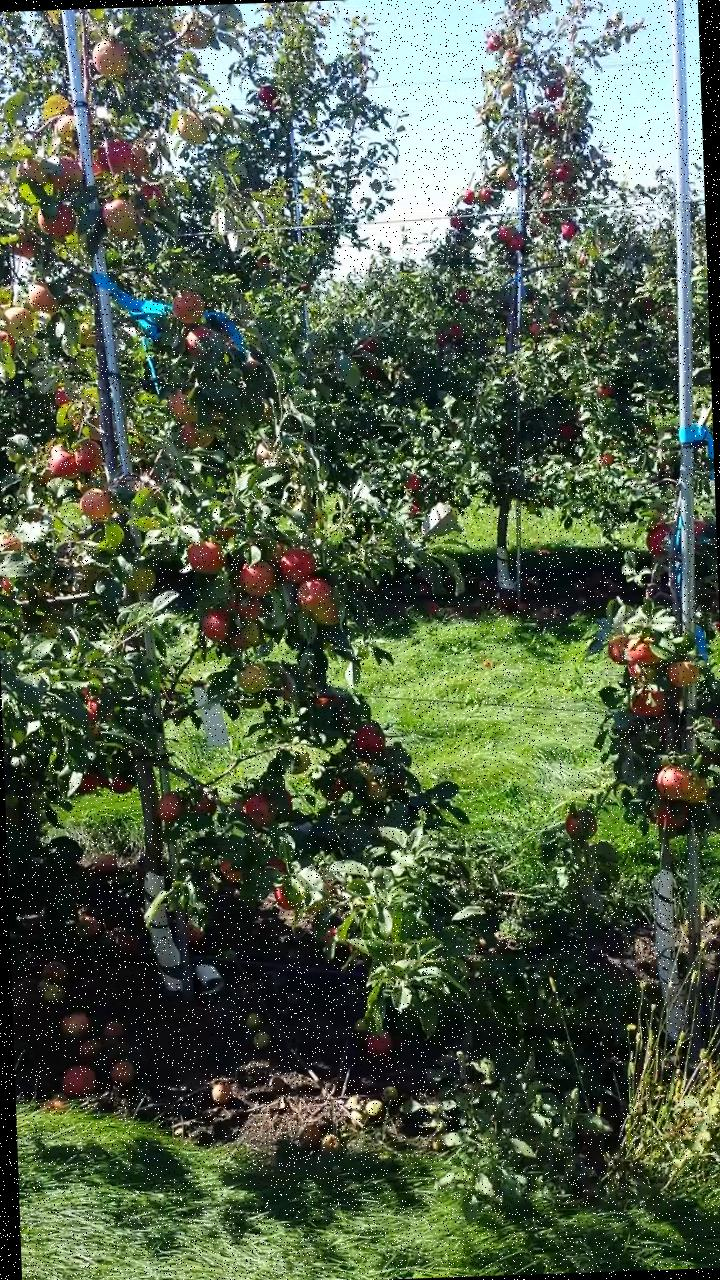Apple: (104, 198, 144, 242), (185, 535, 228, 575), (36, 201, 78, 239), (240, 557, 278, 598), (94, 39, 131, 79), (99, 136, 136, 174), (282, 544, 319, 582), (172, 287, 209, 324), (78, 484, 116, 520), (650, 796, 688, 832), (51, 154, 85, 194), (200, 606, 235, 644), (654, 759, 686, 799), (665, 656, 703, 689), (28, 282, 62, 318), (176, 108, 208, 146), (73, 439, 107, 474), (299, 575, 334, 609), (238, 660, 274, 693), (228, 594, 266, 624), (4, 306, 36, 341), (12, 158, 49, 188), (170, 390, 202, 424), (244, 795, 276, 829), (49, 442, 79, 478), (185, 324, 214, 360), (78, 686, 103, 726), (180, 423, 217, 450), (356, 724, 387, 755), (232, 622, 262, 654), (633, 688, 667, 716), (680, 773, 711, 803), (647, 522, 673, 557), (566, 810, 597, 839), (157, 792, 186, 820), (76, 766, 103, 796), (104, 769, 134, 796), (142, 182, 170, 208), (58, 114, 82, 144), (132, 150, 154, 181), (631, 638, 657, 664), (692, 516, 712, 546), (314, 600, 338, 624), (610, 636, 630, 664), (366, 780, 389, 804), (222, 858, 244, 883), (322, 778, 344, 802), (185, 28, 210, 49), (0, 328, 18, 357), (16, 236, 38, 259), (0, 532, 23, 554), (193, 793, 217, 814), (310, 693, 338, 709), (274, 888, 292, 912), (266, 856, 286, 874), (626, 663, 644, 679), (54, 388, 70, 405), (0, 577, 16, 594), (243, 358, 260, 372), (92, 158, 104, 177), (285, 788, 294, 812), (140, 527, 159, 537)
